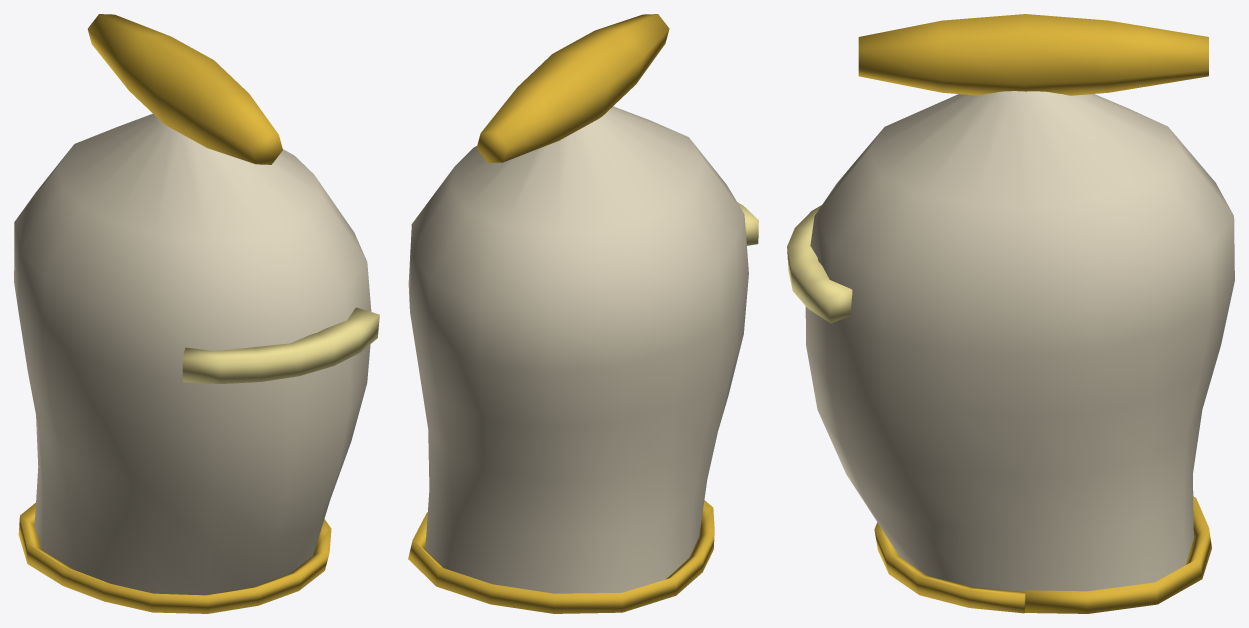
The model's file is radiant_armor_head.glb.
3 renders of one model, left to right at view 1: azimuth 30°, elevation 25°; view 2: azimuth 150°, elevation 25°; view 3: azimuth 270°, elevation 25°, orthographic. The views are drawn at different scales.
Parts seen in each view (by area): view 1: radiant_armor_head; view 2: radiant_armor_head; view 3: radiant_armor_head.
Boxes of the visible parts, <box> form: radiant_armor_head: <box>14,14,379,613</box>; radiant_armor_head: <box>408,14,758,613</box>; radiant_armor_head: <box>787,14,1234,613</box>.
Size of the model in its own units: 0.215 by 0.3521 by 0.2687.
